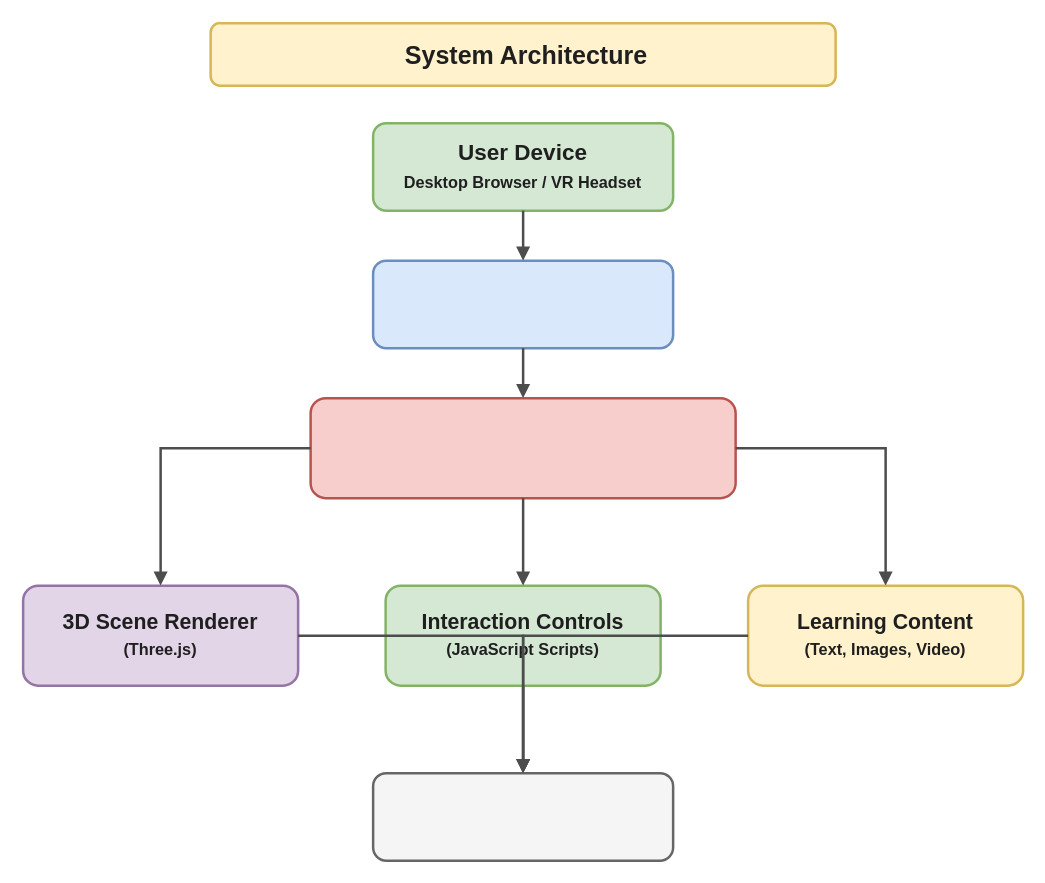
Some shapes in this 1045 by 883 pixel diagram are drawn without their labels. Each missing label, with the box of its shape:
Hosted Web Application GitHub Pages: (371, 771, 674, 861)
Web Browser Chrome / Firefox / Edge: (371, 259, 674, 349)
WebXR + A-Frame Application: (309, 396, 736, 499)
